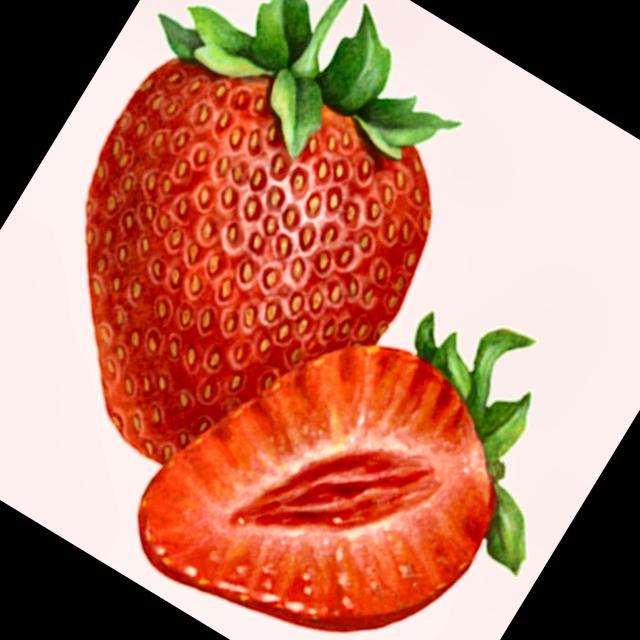strawberry: (86, 0, 456, 462), (139, 314, 531, 630)
